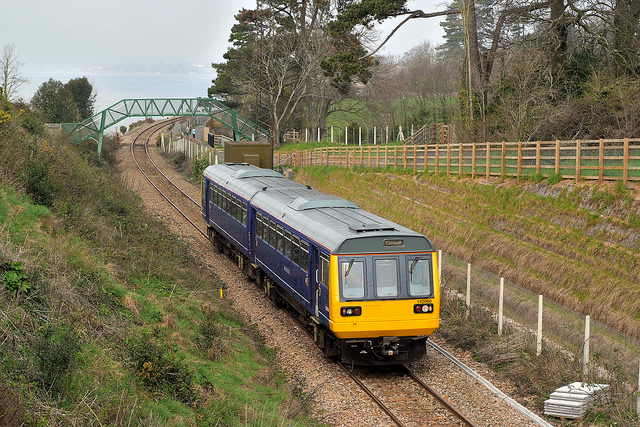Train: (184, 163, 451, 378)
